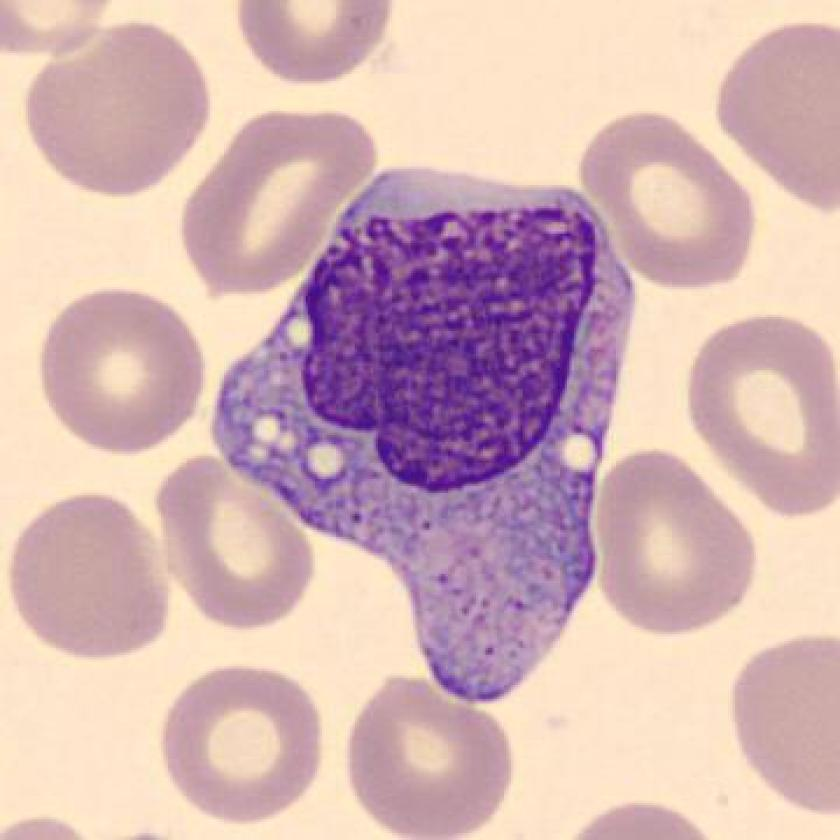monocyte: (193, 142, 655, 723)
